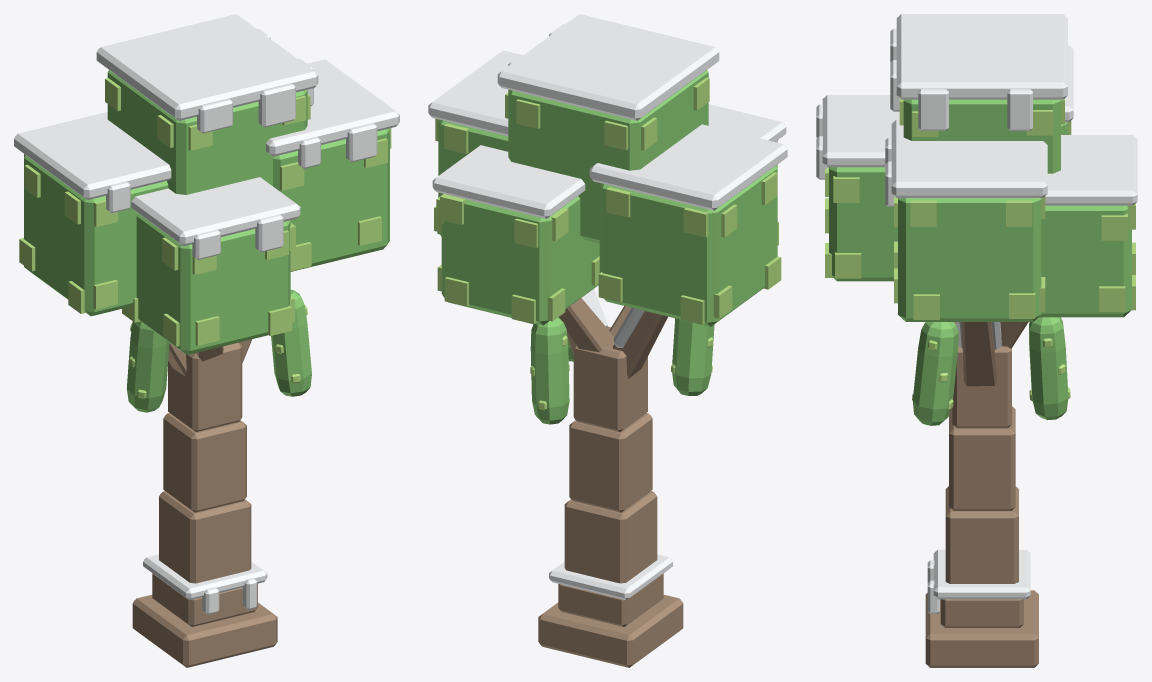
The model's file is SnowSnowTree.fbx.
3 views of the same model, side by side, from view 1: azimuth 30°, elevation 25°; view 2: azimuth 150°, elevation 25°; view 3: azimuth 270°, elevation 25° (orthographic). The views are drawn at different scales.
Visible parts, largest first — view 1: SnowSnowTree.Snow, SnowSnowTree.Crown, SnowSnowTree.Trunk, SnowSnowTree.CrownStuds, SnowSnowTree.Cukes; view 2: SnowSnowTree.Crown, SnowSnowTree.Snow, SnowSnowTree.Trunk, SnowSnowTree.CrownStuds, SnowSnowTree.Cukes; view 3: SnowSnowTree.Snow, SnowSnowTree.Crown, SnowSnowTree.Trunk, SnowSnowTree.CrownStuds, SnowSnowTree.Cukes.
Boxes of the visible parts, bbox=[...] form: SnowSnowTree.Snow: bbox=[14, 14, 399, 614]; SnowSnowTree.Crown: bbox=[24, 70, 389, 354]; SnowSnowTree.Trunk: bbox=[132, 339, 277, 667]; SnowSnowTree.CrownStuds: bbox=[19, 78, 391, 346]; SnowSnowTree.Cukes: bbox=[126, 289, 311, 412]; SnowSnowTree.Crown: bbox=[438, 70, 777, 326]; SnowSnowTree.Snow: bbox=[428, 14, 787, 600]; SnowSnowTree.Trunk: bbox=[538, 298, 683, 667]; SnowSnowTree.CrownStuds: bbox=[434, 77, 781, 324]; SnowSnowTree.Cukes: bbox=[530, 317, 714, 424]; SnowSnowTree.Snow: bbox=[816, 14, 1137, 613]; SnowSnowTree.Crown: bbox=[829, 99, 1131, 321]; SnowSnowTree.Trunk: bbox=[925, 322, 1038, 667]; SnowSnowTree.CrownStuds: bbox=[825, 98, 1135, 319]; SnowSnowTree.Cukes: bbox=[912, 317, 1068, 425].
Size of the model in its own units: 6.29 by 11.52 by 5.6.
